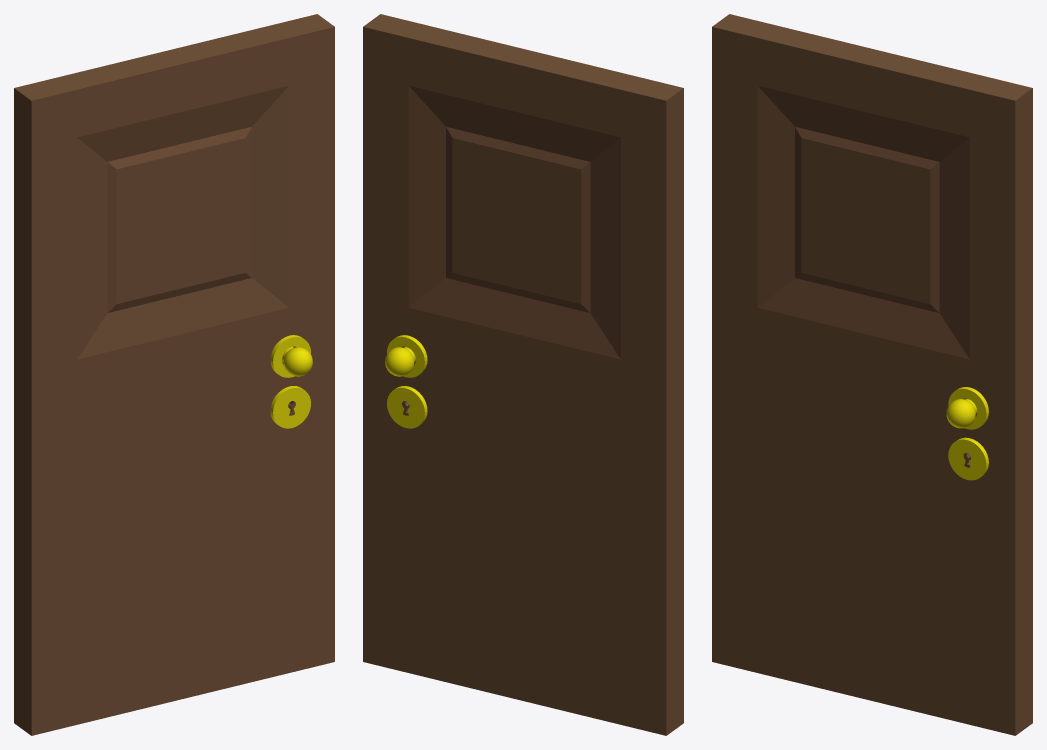
Rendered from Door.fbx.
3 views of the same model, side by side, from view 1: azimuth 30°, elevation 25°; view 2: azimuth 150°, elevation 25°; view 3: azimuth 330°, elevation 25° (orthographic).
Visible parts, largest first — view 1: Door, Cylinder.003, Cylinder.001, Sphere.001; view 2: Door, Cylinder.003, Cylinder.002, Sphere; view 3: Door, Cylinder.003, Cylinder.001, Sphere.001.
Part boxes in pixels (x1,y1,x2,y2): Door: (14,14,334,735); Cylinder.003: (270,386,310,428); Cylinder.001: (270,335,310,377); Sphere.001: (283,347,312,376); Door: (363,14,683,735); Cylinder.003: (387,386,427,428); Cylinder.002: (387,335,427,377); Sphere: (385,347,414,376); Door: (712,14,1032,735); Cylinder.003: (948,437,988,480); Cylinder.001: (948,387,988,429); Sphere.001: (946,399,975,428).
Bounding box in the file's own units: 100 × 200 × 28.4.
